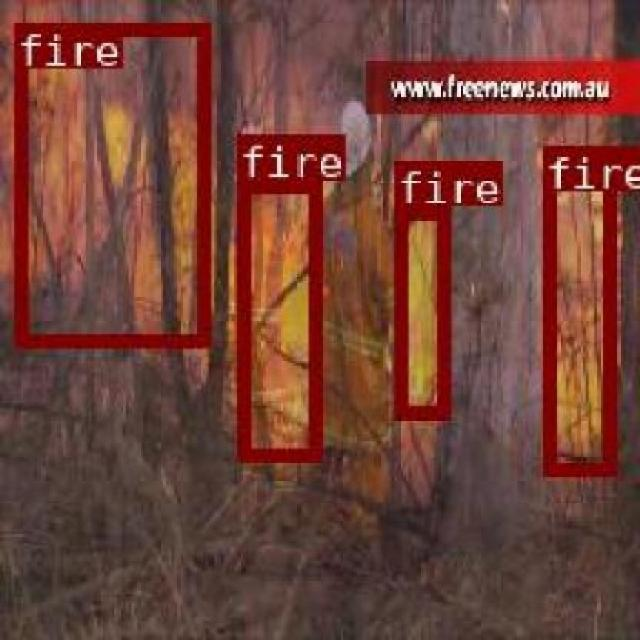Fire: (12, 22, 206, 346), (540, 143, 614, 474), (234, 178, 320, 458), (391, 206, 447, 417)
